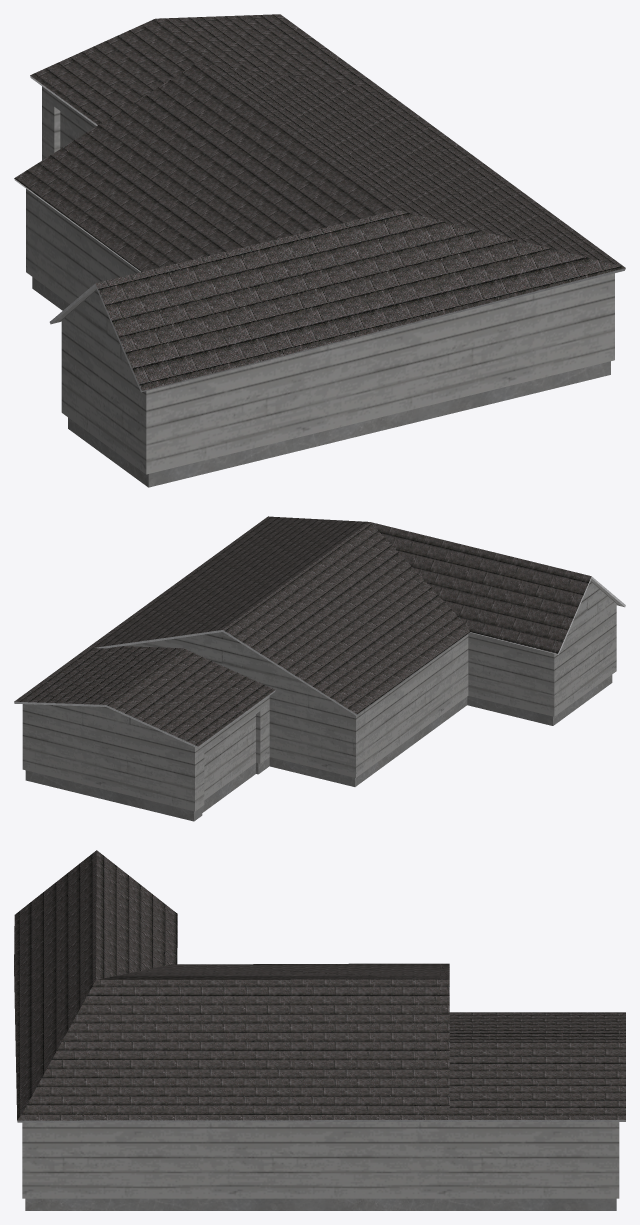
File: SM_House_01.fbx
3 renders of one model, top to bottom at view 1: azimuth 30°, elevation 25°; view 2: azimuth 150°, elevation 25°; view 3: azimuth 270°, elevation 25°, orthographic. The views are drawn at different scales.
Parts seen in each view (by area): view 1: SM_House_01; view 2: SM_House_01; view 3: SM_House_01.
Part boxes in pixels (box(x1,y1,x2,y2)): SM_House_01: box(14, 14, 625, 487); SM_House_01: box(14, 516, 625, 821); SM_House_01: box(14, 850, 625, 1210).
Size of the model in its own units: 1657 by 2053 by 580.
4 materials, 4 textured.
